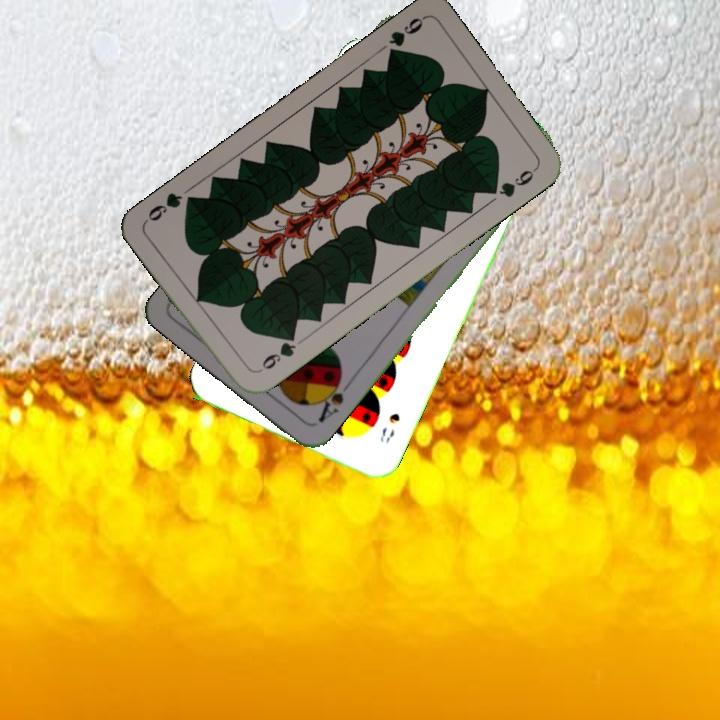G9: (252, 329, 299, 376), (383, 13, 427, 62)
S8: (375, 409, 403, 446)
SA: (312, 371, 354, 425)
